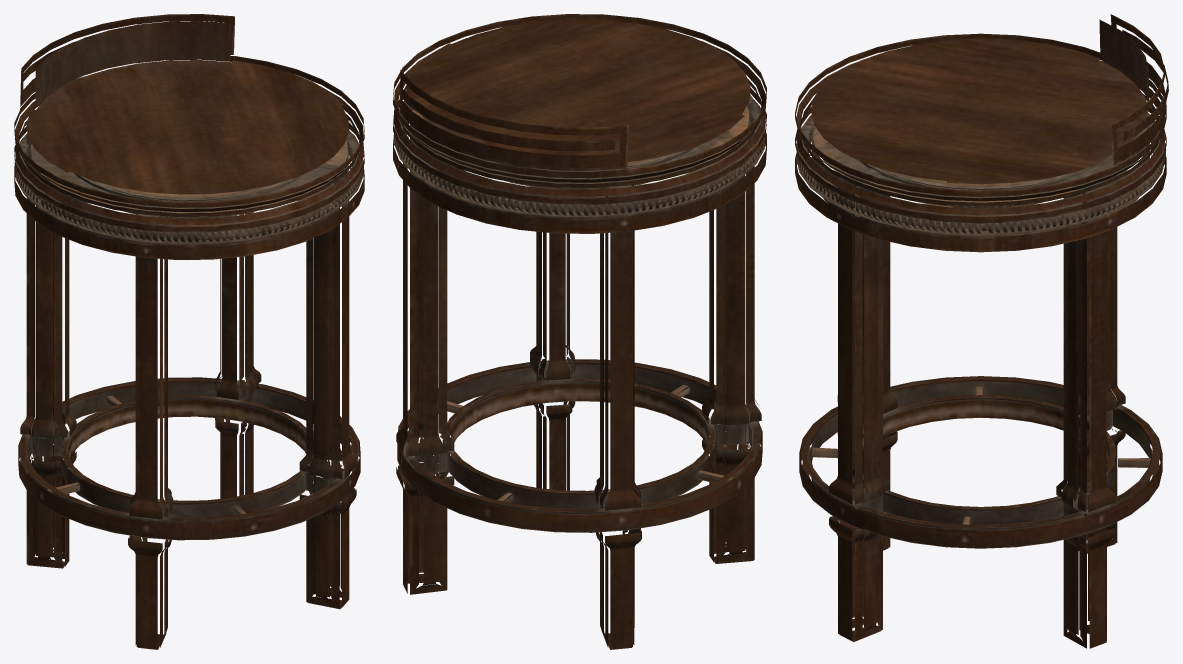
File: bar_chair_round_01.glb
3 views of the same model, side by side, from view 1: azimuth 30°, elevation 25°; view 2: azimuth 150°, elevation 25°; view 3: azimuth 270°, elevation 25° (orthographic). The views are drawn at different scales.
Visible parts, largest first — view 1: bar_chair_round_01; view 2: bar_chair_round_01; view 3: bar_chair_round_01.
Part boxes in pixels (left/top/right/bottom): bar_chair_round_01: left=14, top=14, right=364, bottom=649; bar_chair_round_01: left=393, top=14, right=766, bottom=649; bar_chair_round_01: left=795, top=14, right=1168, bottom=648.
Size of the model in its own units: 0.4832 by 0.7493 by 0.486.
Materials: 1 (1 with a texture image).
